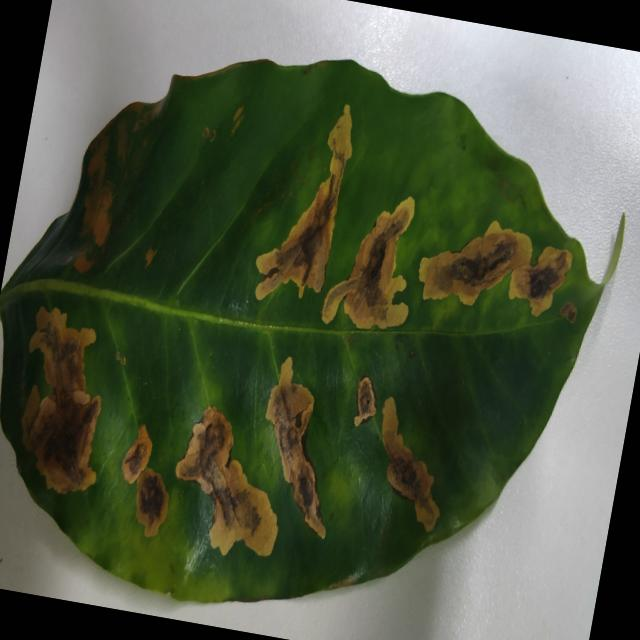PengorokDaunKopi: (255, 104, 351, 299), (175, 406, 277, 555), (21, 306, 100, 493), (321, 196, 414, 328), (266, 356, 325, 538), (419, 221, 531, 305), (382, 397, 439, 530), (508, 246, 571, 316), (80, 133, 113, 245), (81, 154, 110, 245), (136, 468, 168, 536), (122, 424, 152, 483), (353, 376, 376, 425), (132, 98, 164, 132), (528, 266, 558, 298), (120, 99, 162, 120), (230, 105, 243, 136), (559, 301, 577, 322), (117, 121, 126, 160), (117, 130, 126, 160), (73, 258, 92, 272), (145, 246, 156, 268), (202, 126, 209, 137), (209, 129, 215, 141), (120, 355, 125, 365), (114, 350, 119, 359)
